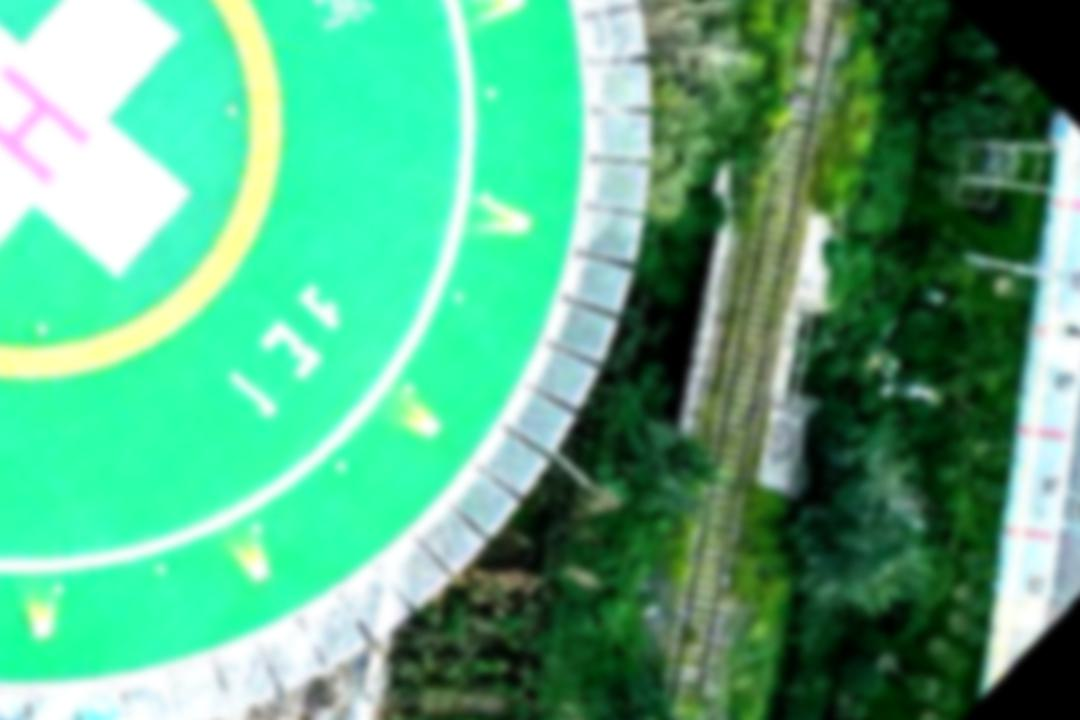Apron: (1, 1, 305, 399)
